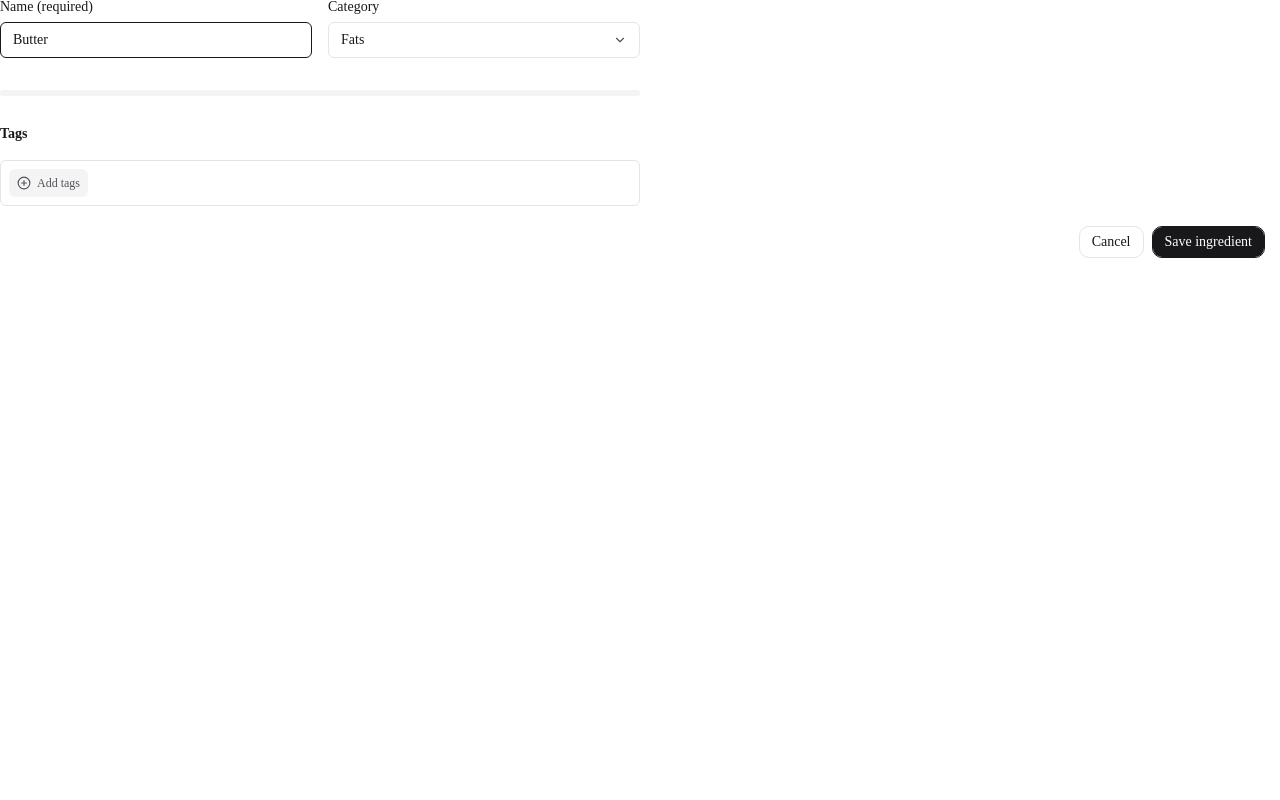
Scenario: the ingredient category field › keeps a saved category the option list does not carry
Click the button with aria-label "Category".
click(353, 40)  # box [328,22,640,58]
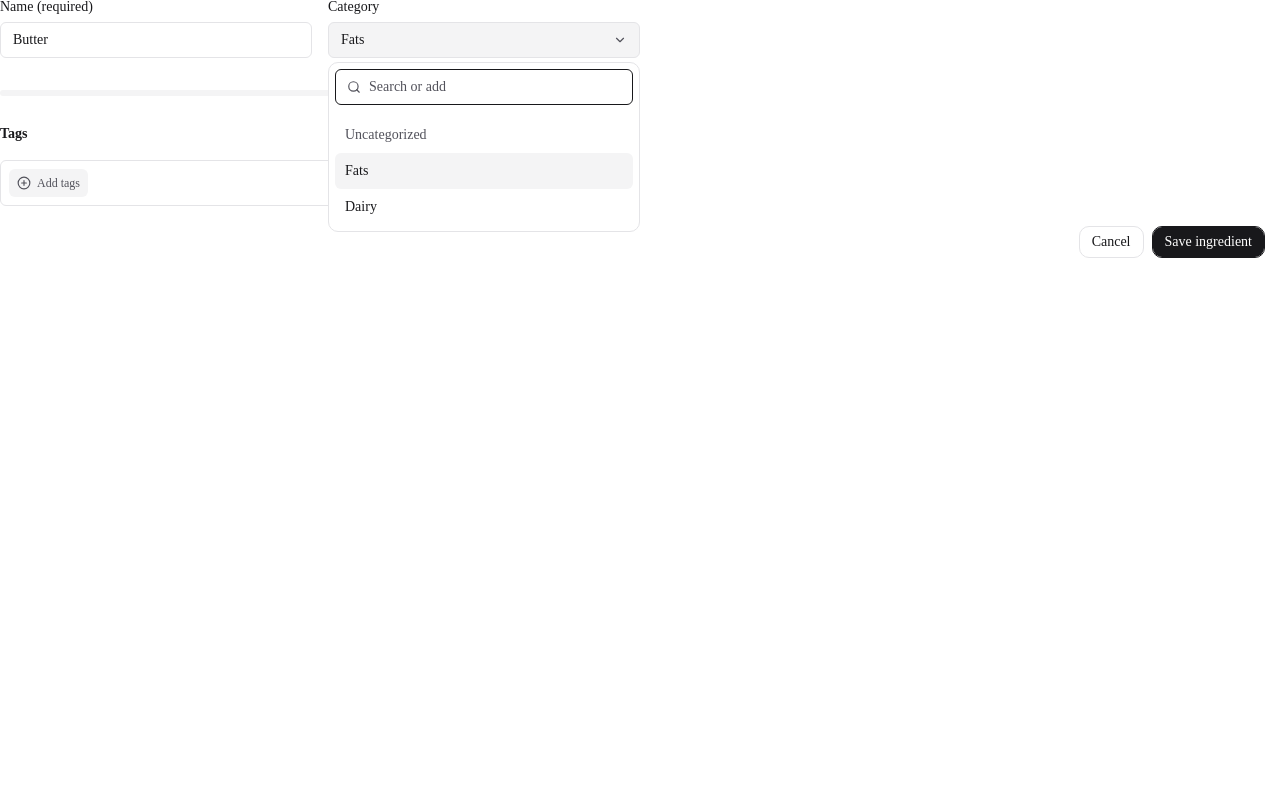
Expected: the 2nd button "Fats" is shown, [335,153,633,189]
